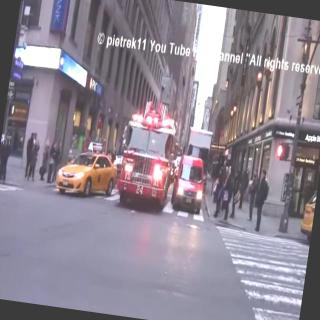Fire_truck: (112, 95, 184, 211)
